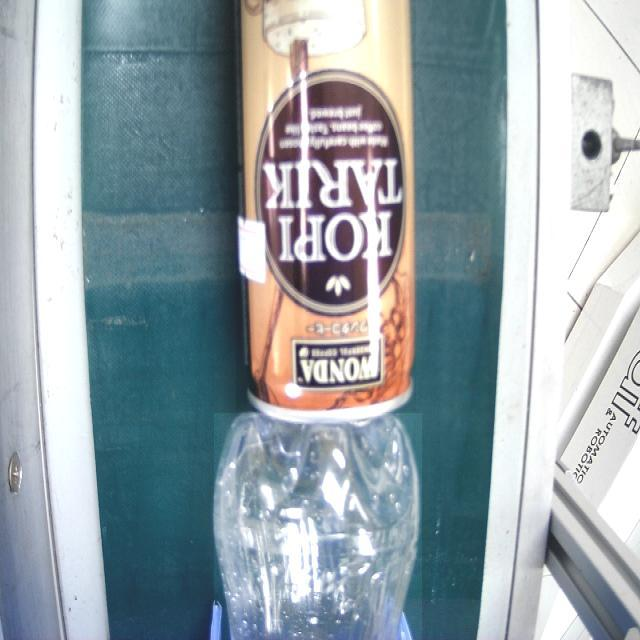Pet_Bottle: (214, 413, 422, 640)
can: (236, 0, 416, 411)
